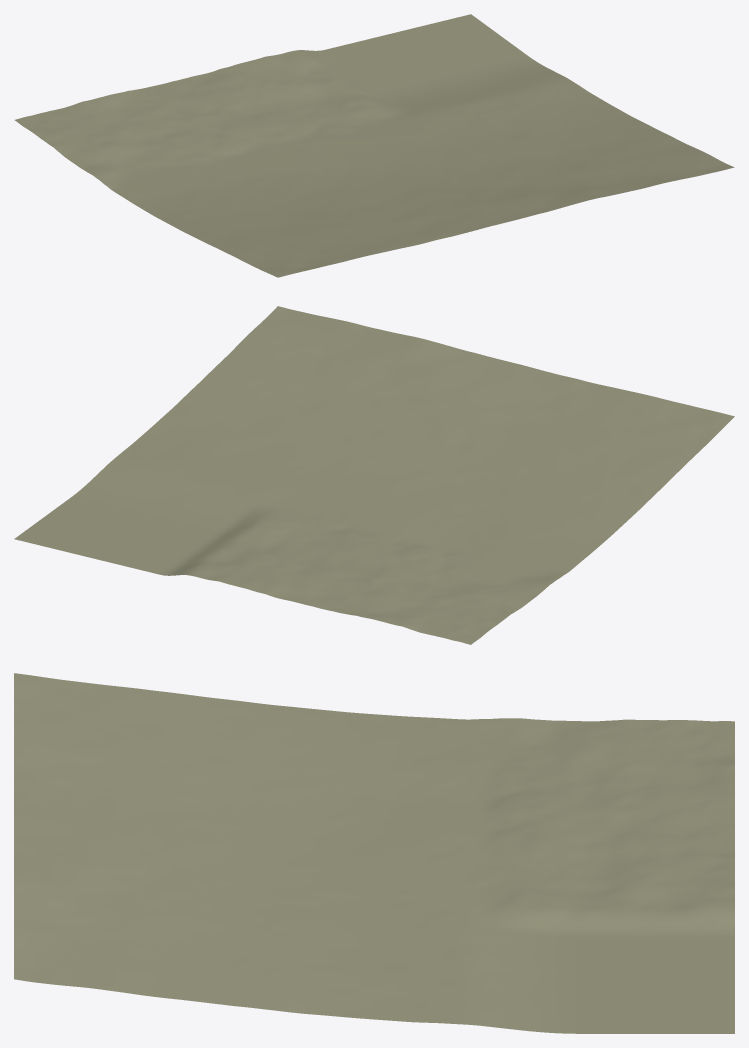
The model's file is SM_VB_Terrain_1_2.fbx.
The picture shows the model from 3 angles, top to bottom: view 1: azimuth 30°, elevation 25°; view 2: azimuth 150°, elevation 25°; view 3: azimuth 270°, elevation 25°; orthographic projection. The views are drawn at different scales.
Visible parts, largest first — view 1: SM_VB_Terrain_1_2; view 2: SM_VB_Terrain_1_2; view 3: SM_VB_Terrain_1_2.
Boxes of the visible parts, bbox=[...] form: SM_VB_Terrain_1_2: bbox=[14, 14, 734, 277]; SM_VB_Terrain_1_2: bbox=[14, 306, 734, 644]; SM_VB_Terrain_1_2: bbox=[14, 673, 734, 1033].
Bounding box in the file's own units: 400 × 35.63 × 400.
